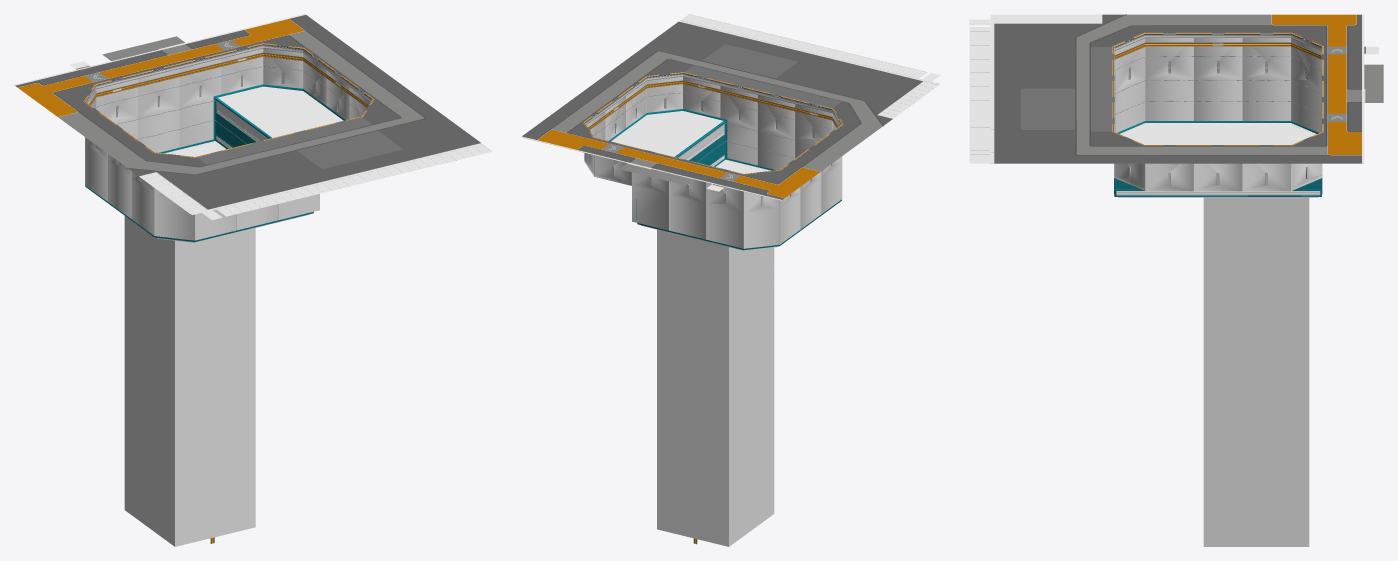
3 views of the same model, side by side, from view 1: azimuth 30°, elevation 25°; view 2: azimuth 150°, elevation 25°; view 3: azimuth 270°, elevation 25° (orthographic). The views are drawn at different scales.
Parts seen in each view (by area): view 1: SM_H_Building_FutureTech_HLight_01_InterWall_04I; view 2: SM_H_Building_FutureTech_HLight_01_InterWall_04I; view 3: SM_H_Building_FutureTech_HLight_01_InterWall_04I.
Part boxes in pixels (x1,y1,x2,y2): SM_H_Building_FutureTech_HLight_01_InterWall_04I: (14, 14, 492, 546); SM_H_Building_FutureTech_HLight_01_InterWall_04I: (521, 14, 940, 546); SM_H_Building_FutureTech_HLight_01_InterWall_04I: (969, 14, 1383, 546).
Size of the model in its own units: 1813 by 1551 by 2204.
